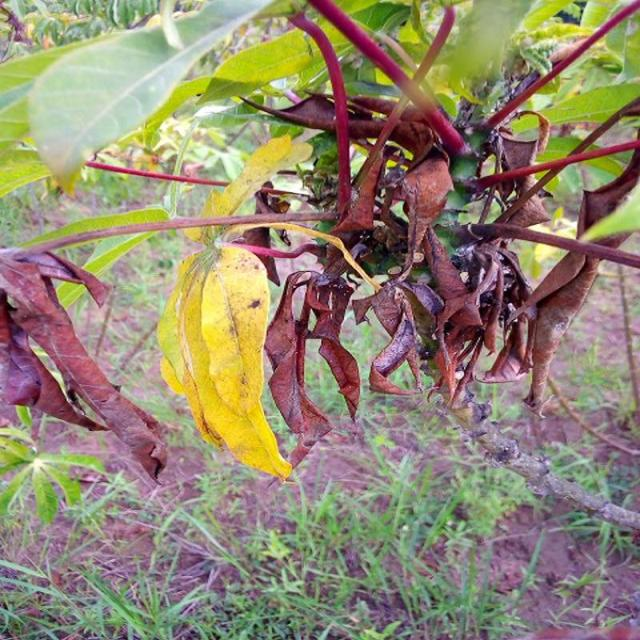cassava leaf: (26, 0, 275, 194), (156, 237, 293, 482)
